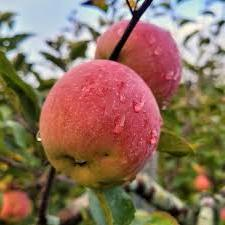apple: (31, 59, 164, 193), (90, 17, 187, 112)
